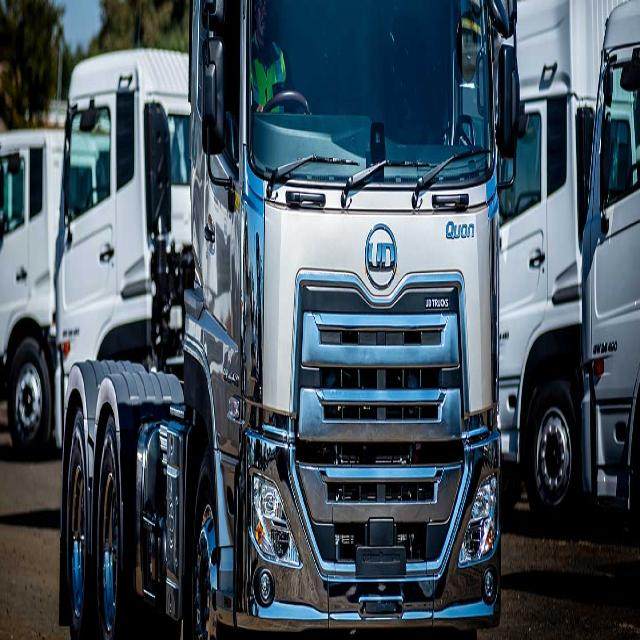Heavy Duty Truck: (60, 15, 521, 638), (578, 1, 640, 565), (1, 107, 54, 451)
